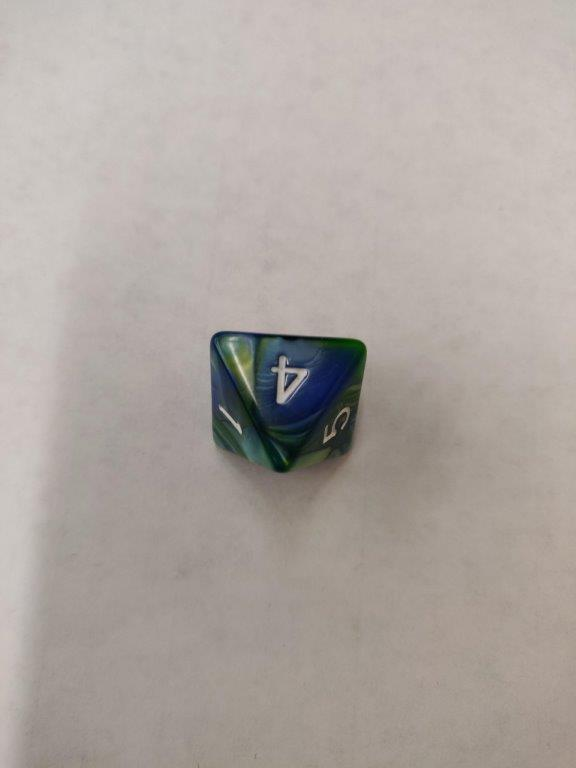d8-4: (207, 328, 366, 470)
